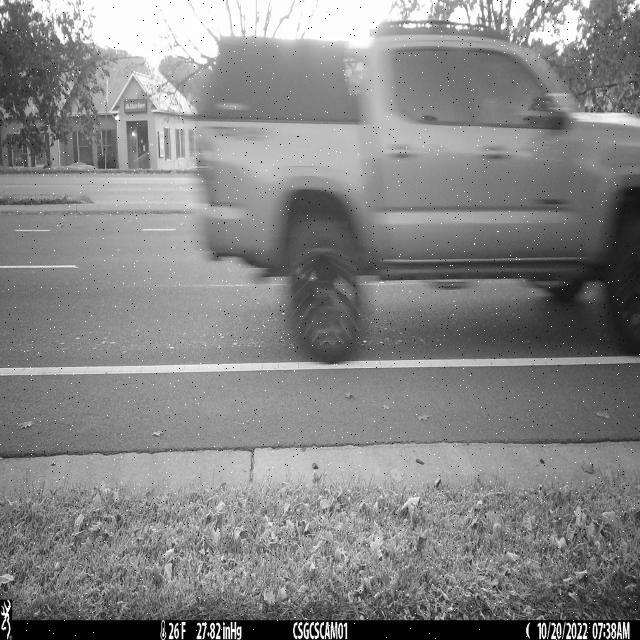Pickup: (184, 18, 640, 365)
